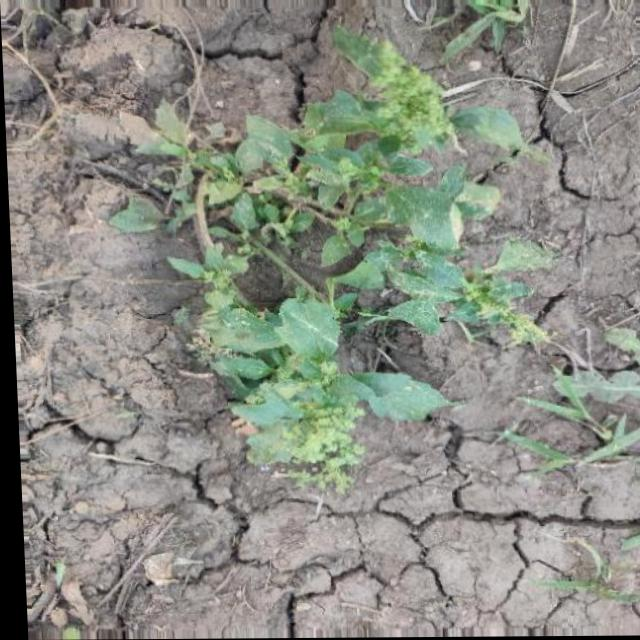weed: (134, 97, 517, 477)
